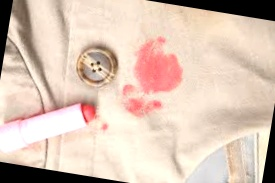lipstick: (129, 35, 191, 95), (116, 80, 157, 123), (128, 88, 169, 115), (99, 121, 109, 134)
